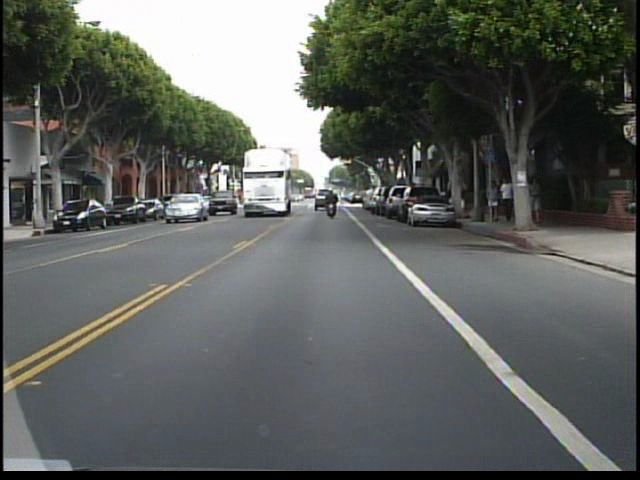person: (497, 175, 515, 226), (527, 173, 543, 224), (483, 176, 500, 224), (323, 185, 341, 221)
